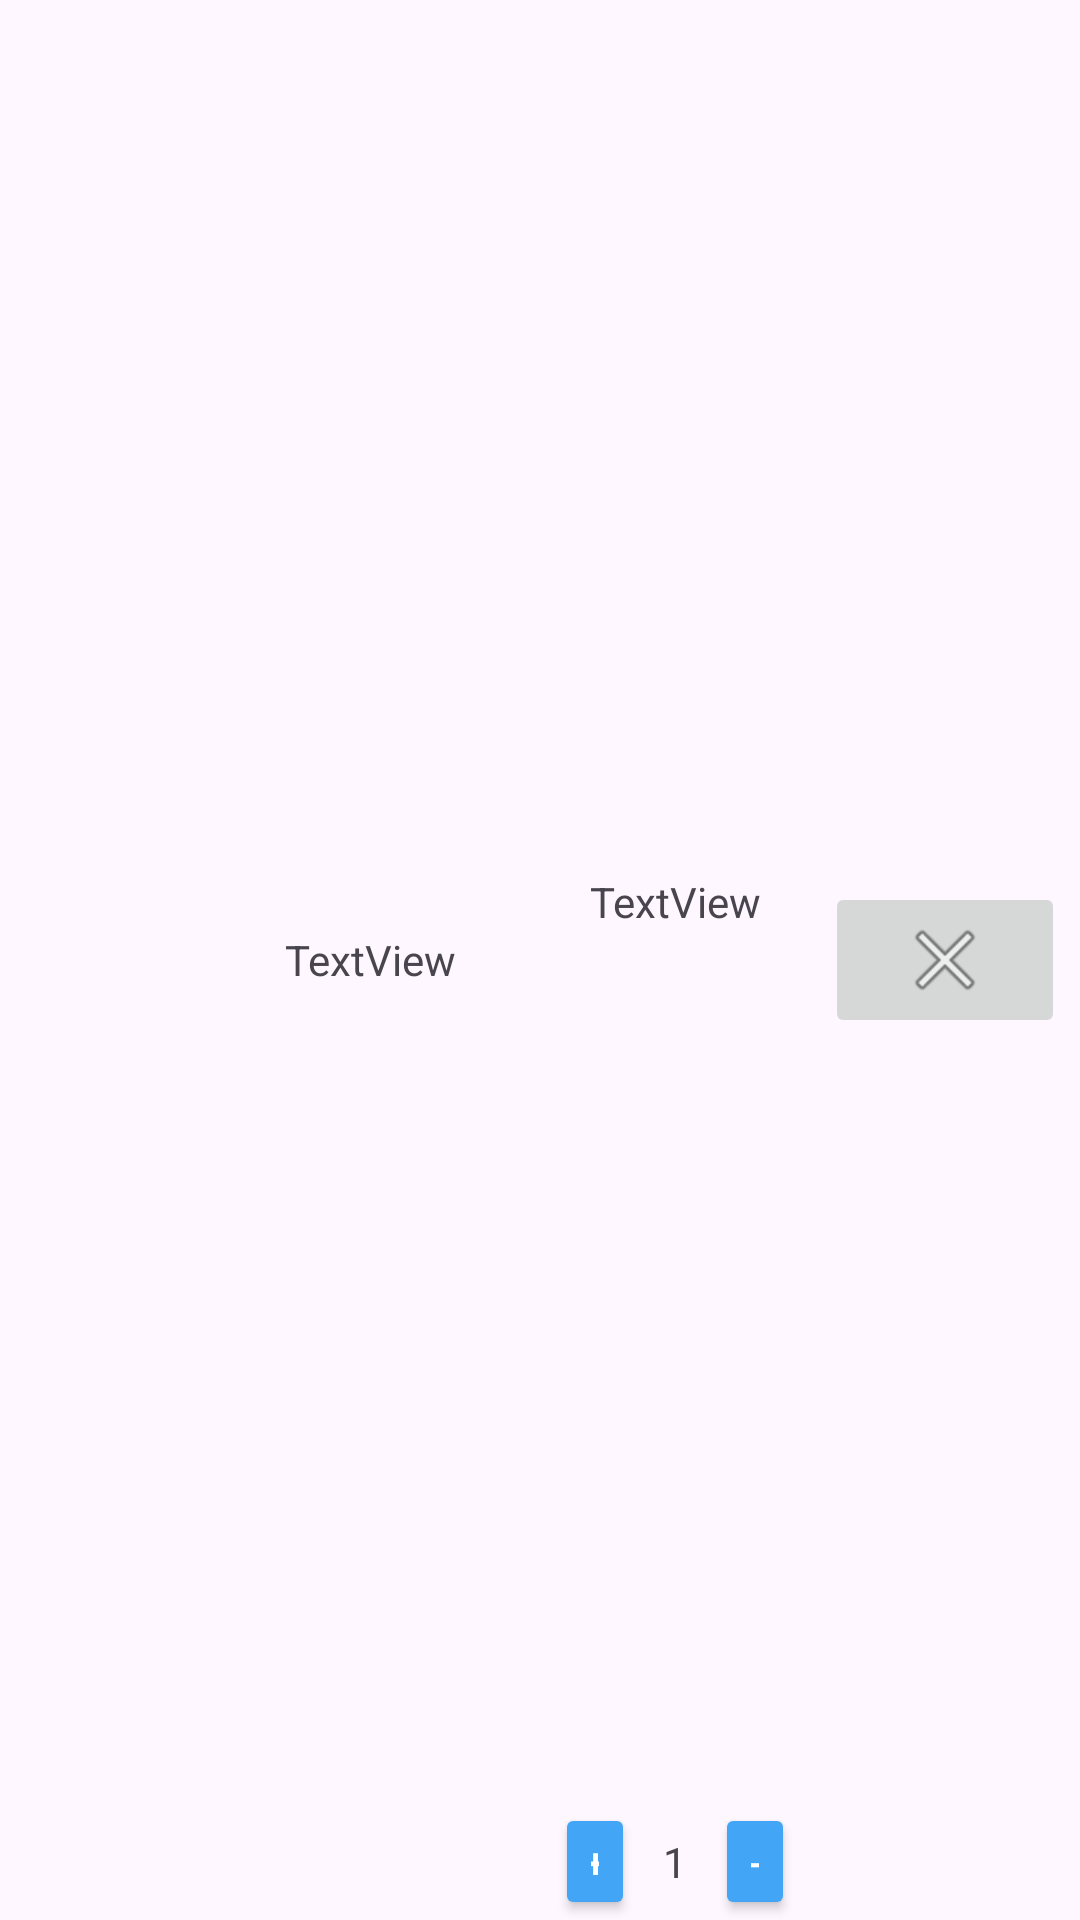

Screen size 1080w x 1920h. Icon name, then its box in pixels as (x1, y1, x2, y2):
close clear cancel: (837, 900, 1053, 1020)
